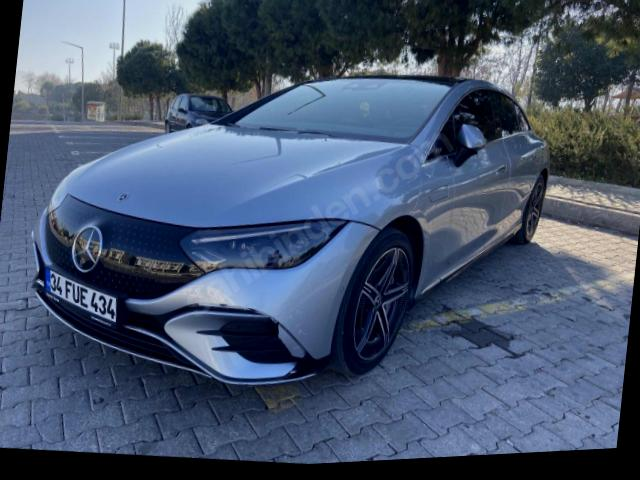plaka: (46, 270, 117, 322)
